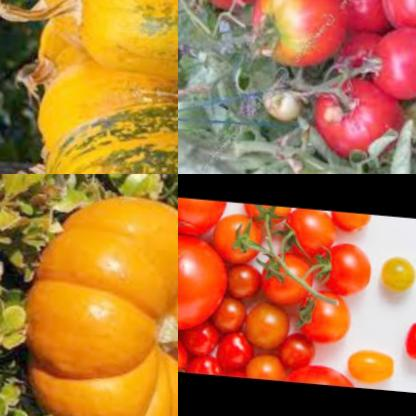pumpkin: (13, 175, 178, 416), (38, 49, 178, 156), (41, 85, 178, 174), (65, 0, 178, 74), (30, 0, 178, 48)
tomato: (314, 66, 416, 169), (250, 0, 354, 72), (178, 224, 234, 328), (311, 234, 379, 296), (367, 12, 416, 98), (299, 281, 362, 341), (329, 18, 387, 78), (242, 291, 297, 349), (259, 247, 316, 299), (282, 202, 340, 253), (212, 202, 265, 256), (285, 350, 364, 381), (346, 339, 400, 382), (178, 191, 224, 238), (186, 309, 226, 356), (380, 244, 416, 295), (280, 324, 321, 366), (215, 292, 251, 335), (228, 261, 266, 300), (333, 0, 395, 23), (220, 324, 253, 366), (245, 199, 294, 226), (333, 206, 379, 233), (249, 344, 287, 375), (192, 349, 228, 372), (178, 320, 194, 368), (402, 307, 416, 360)
